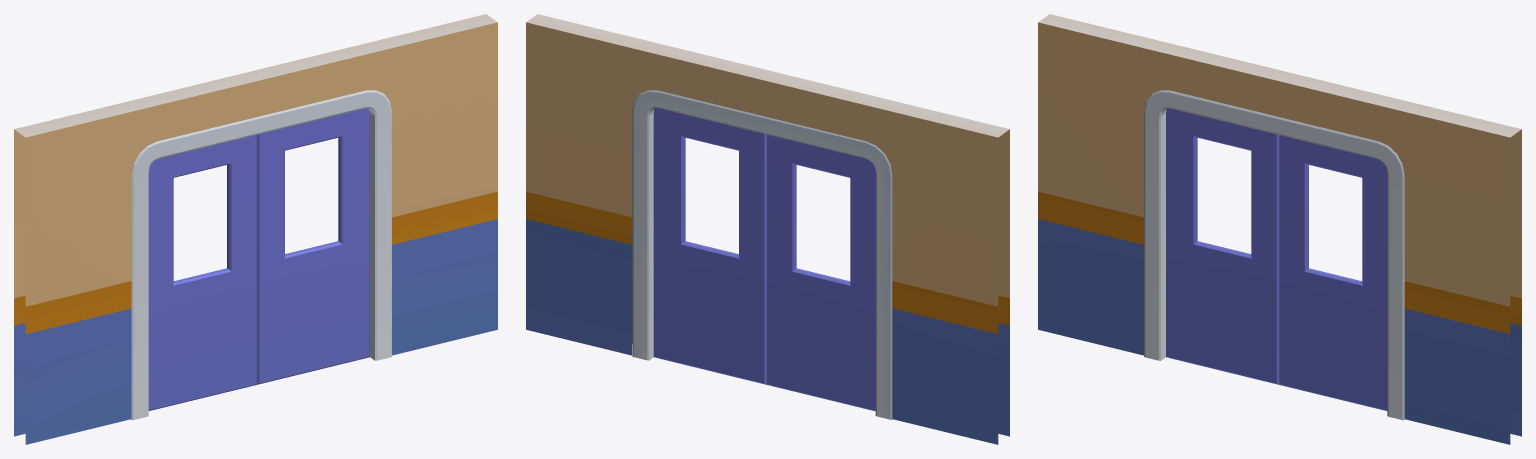
Rendered from Door_1.fbx.
The picture shows the model from 3 angles, left to right: view 1: azimuth 30°, elevation 25°; view 2: azimuth 150°, elevation 25°; view 3: azimuth 330°, elevation 25°; orthographic projection.
Visible parts, largest first — view 1: Wall, Door_L, Door_R; view 2: Wall, Door_L, Door_R; view 3: Wall, Door_R, Door_L.
Boxes of the visible parts, left/top/right/bottom form: Wall: left=14, top=14, right=497, bottom=444; Door_L: left=257, top=108, right=369, bottom=384; Door_R: left=148, top=135, right=256, bottom=410; Wall: left=526, top=14, right=1009, bottom=444; Door_L: left=653, top=108, right=766, bottom=384; Door_R: left=767, top=134, right=875, bottom=411; Wall: left=1038, top=14, right=1521, bottom=444; Door_R: left=1166, top=108, right=1279, bottom=384; Door_L: left=1279, top=135, right=1387, bottom=410.
Bounding box in the file's own units: 200 × 125 × 8.89.
